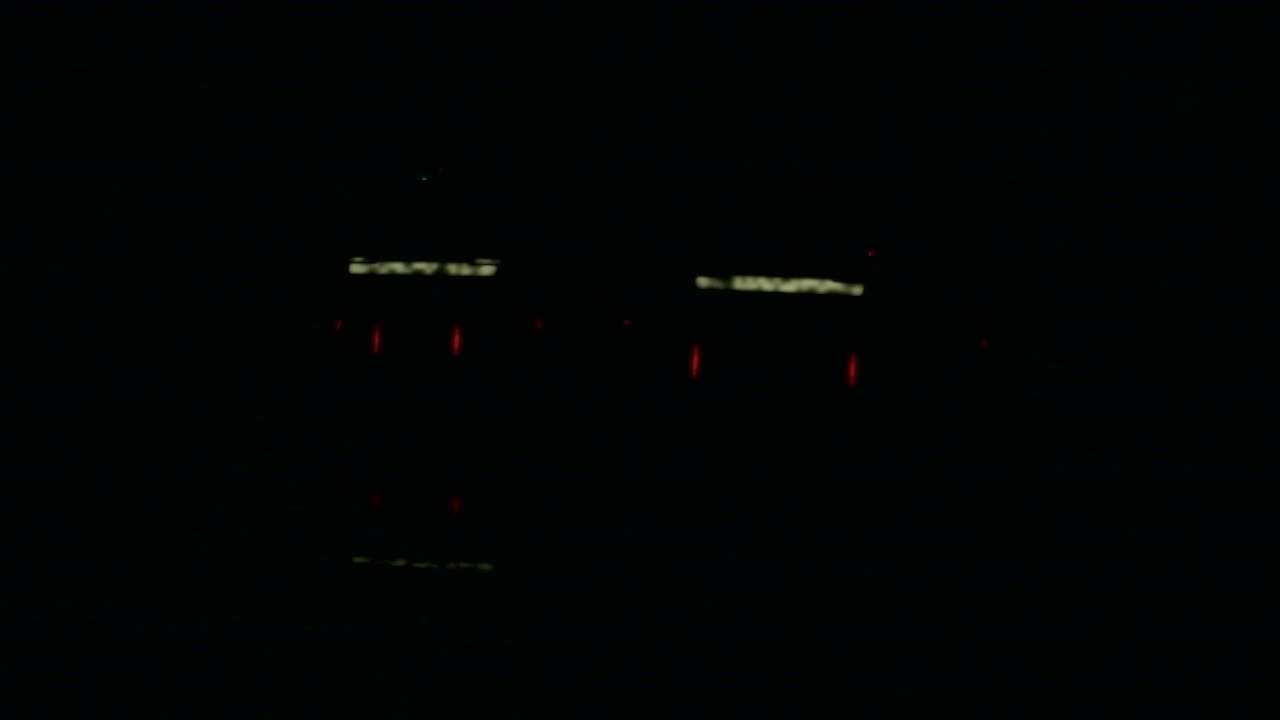lamp: (687, 341, 703, 386), (845, 342, 858, 386), (372, 328, 381, 352), (453, 327, 461, 353)
pair1: (373, 329, 461, 353)
pair2: (687, 343, 859, 386)
